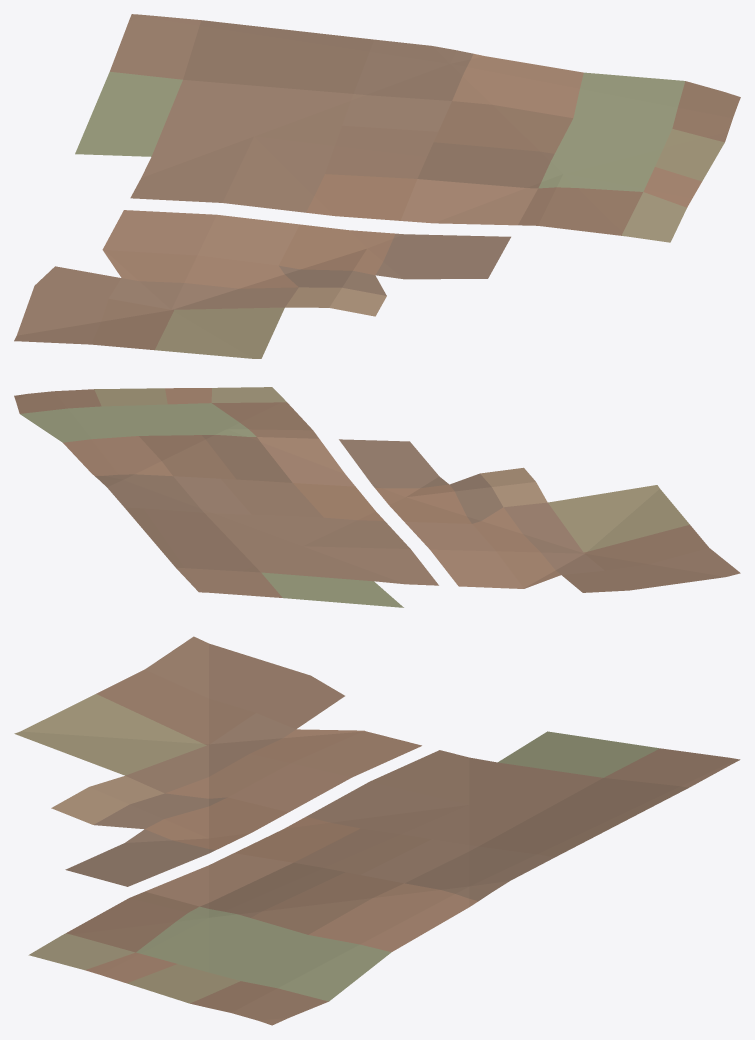
File: farm_29_13_soil.glb
The picture shows the model from 3 angles, top to bottom: view 1: azimuth 30°, elevation 25°; view 2: azimuth 150°, elevation 25°; view 3: azimuth 270°, elevation 25°; orthographic projection. The views are drawn at different scales.
Visible parts, largest first — view 1: geometry_0; view 2: geometry_0; view 3: geometry_0.
Boxes of the visible parts, bbox=[...] form: geometry_0: bbox=[14, 14, 740, 358]; geometry_0: bbox=[14, 387, 740, 607]; geometry_0: bbox=[14, 636, 740, 1025].
Bounding box in the file's own units: 311 × 31.28 × 223.
